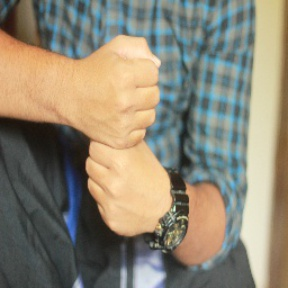G: (75, 28, 184, 240)
